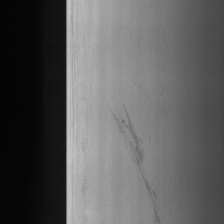water_spot: (107, 94, 171, 224)
